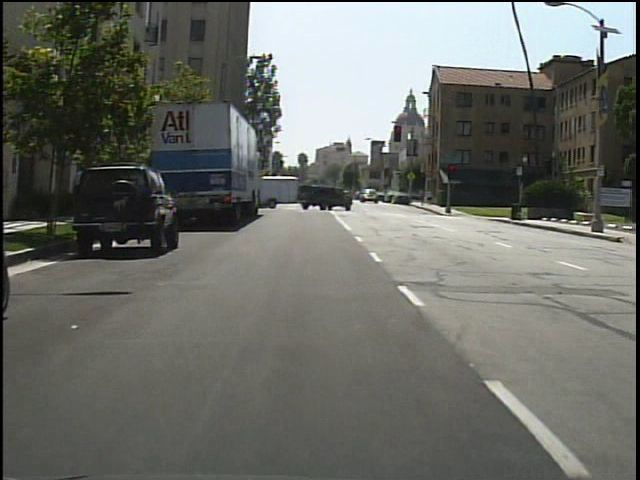person: (418, 188, 427, 209)
